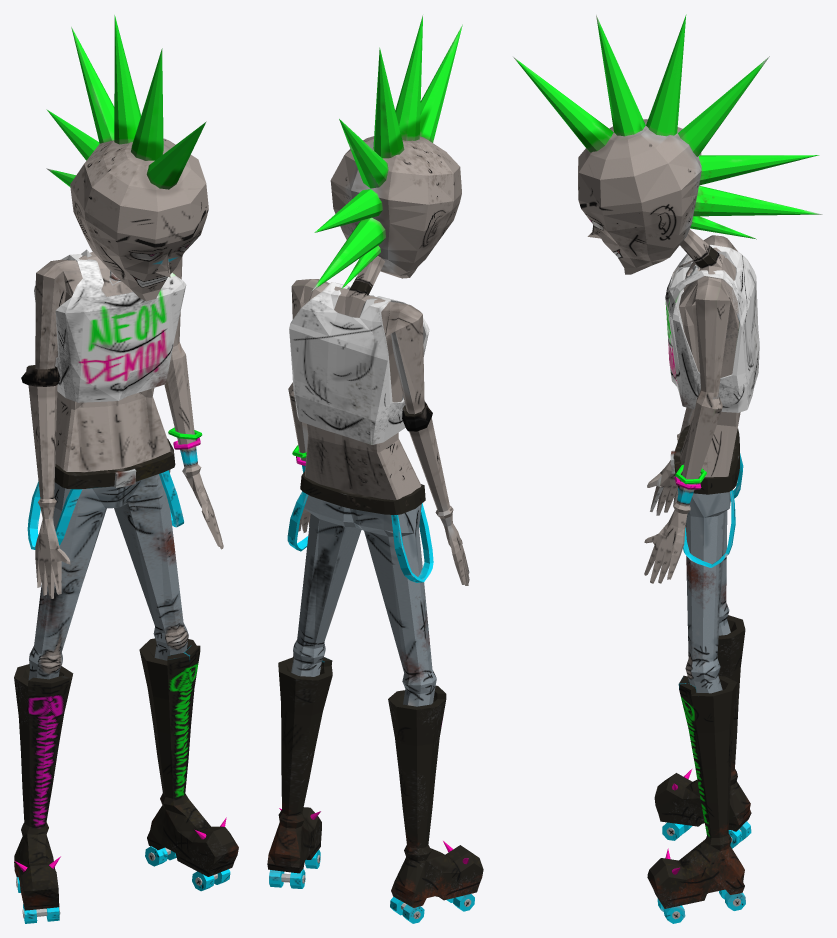
File: punkAnimation_000036.obj
3 views of the same model, side by side, from view 1: azimuth 30°, elevation 25°; view 2: azimuth 150°, elevation 25°; view 3: azimuth 270°, elevation 25° (orthographic). The views are drawn at different scales.
Visible parts, largest first — view 1: Cube.004_Cube.003; view 2: Cube.004_Cube.003; view 3: Cube.004_Cube.003.
Boxes of the visible parts, x1=… form: Cube.004_Cube.003: x1=14, y1=15, x2=238, y2=923; Cube.004_Cube.003: x1=267, y1=15, x2=483, y2=923; Cube.004_Cube.003: x1=513, y1=14, x2=822, y2=923.
Bounding box in the file's own units: 1.85 × 7.5 × 2.45.
